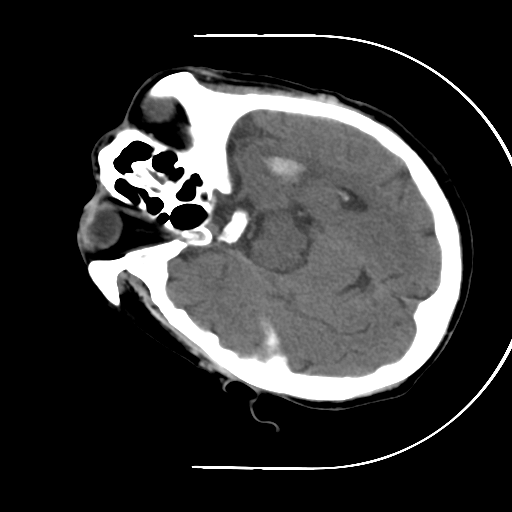a: (240, 135, 335, 204)
